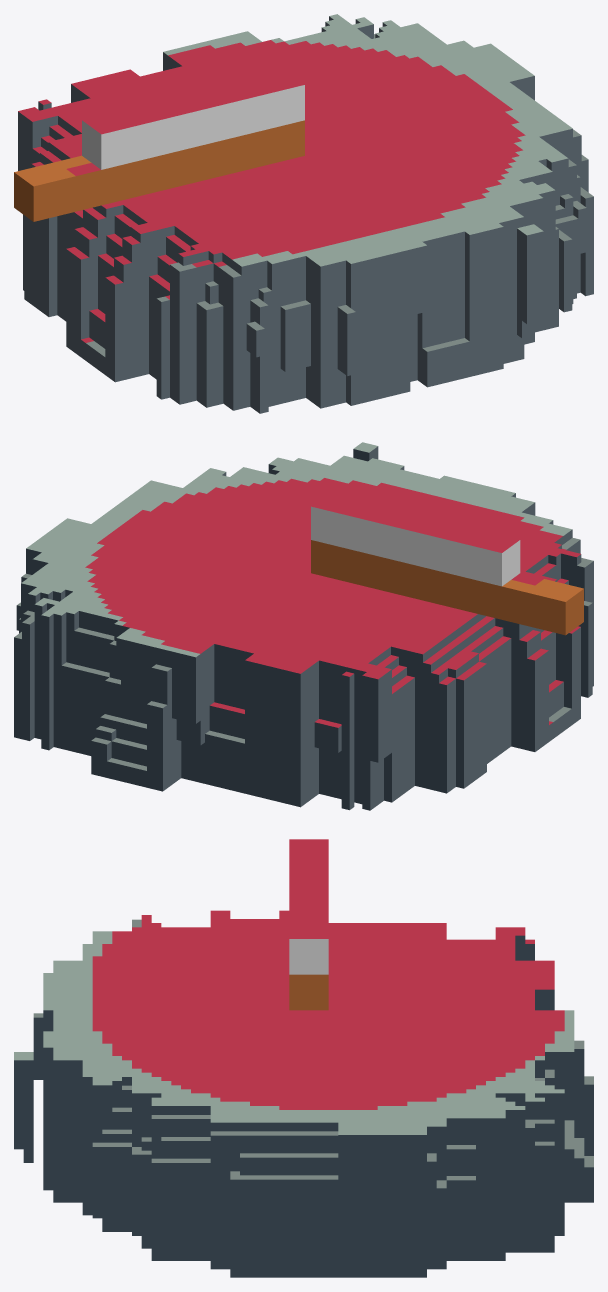
File: editor-persistence.fbx
The picture shows the model from 3 angles, top to bottom: view 1: azimuth 30°, elevation 25°; view 2: azimuth 150°, elevation 25°; view 3: azimuth 270°, elevation 25°; orthographic projection. The views are drawn at different scales.
Parts seen in each view (by area): view 1: chunk_0_0, chunk__1_0, chunk__1__1, chunk_0__1; view 2: chunk_0__1, chunk__1__1, chunk_0_0, chunk__1_0; view 3: chunk__1_0, chunk__1__1, chunk_0_0, chunk_0__1.
Part boxes in pixels (left/top/right/bottom): chunk_0_0: left=14, top=70, right=427, bottom=413; chunk__1_0: left=305, top=85, right=593, bottom=387; chunk__1__1: left=163, top=14, right=534, bottom=136; chunk_0__1: left=18, top=66, right=212, bottom=321; chunk_0__1: left=205, top=573, right=501, bottom=810; chunk__1__1: left=14, top=518, right=310, bottom=791; chunk_0_0: left=311, top=475, right=593, bottom=752; chunk__1_0: left=96, top=442, right=438, bottom=572; chunk__1_0: left=14, top=1010, right=328, bottom=1277; chunk__1__1: left=328, top=1010, right=593, bottom=1277; chunk_0_0: left=33, top=839, right=328, bottom=1079; chunk_0__1: left=328, top=923, right=554, bottom=1010.
Bounding box in the file's own units: 388 × 150 × 369.
4 materials, 4 textured.
